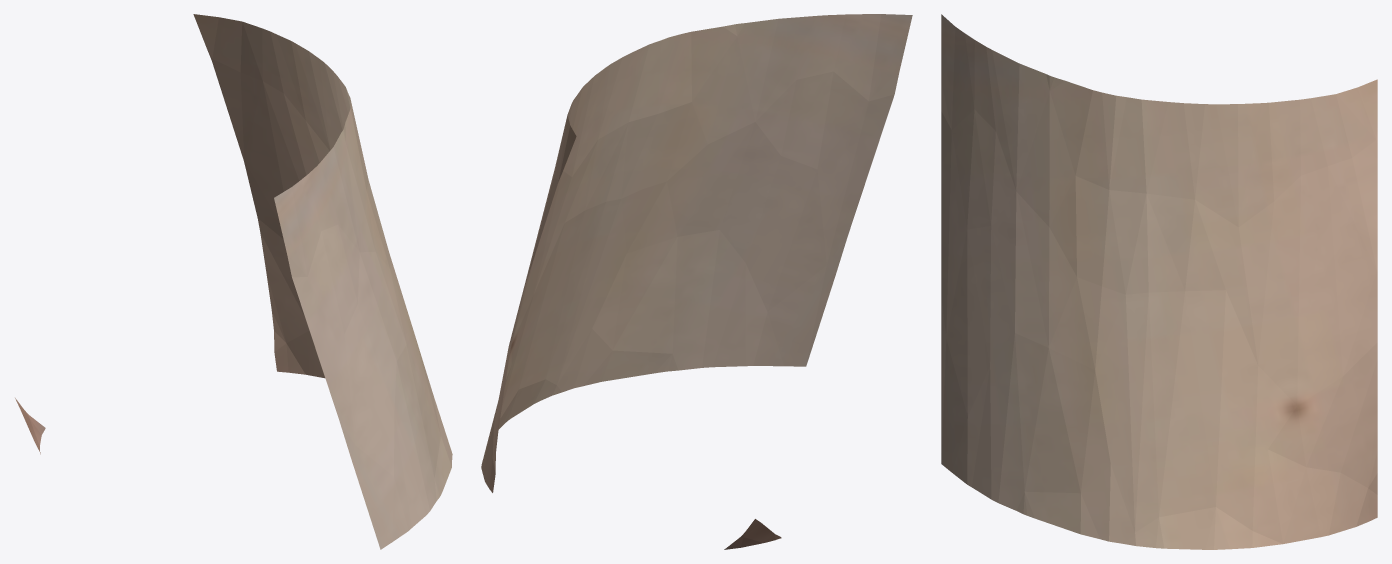
3 views of the same model, side by side, from view 1: azimuth 30°, elevation 25°; view 2: azimuth 150°, elevation 25°; view 3: azimuth 270°, elevation 25° (orthographic). The views are drawn at different scales.
Parts seen in each view (by area): view 1: 091_W_Aya_100K_01; view 2: 091_W_Aya_100K_01; view 3: 091_W_Aya_100K_01.
Boxes of the visible parts, x1,y1,x2,y2 form: 091_W_Aya_100K_01: (15,14,452,549); 091_W_Aya_100K_01: (481,14,912,549); 091_W_Aya_100K_01: (941,14,1377,549).
Bounding box in the file's own units: 38.69 × 42.87 × 42.87.
1 material, 1 textured.
